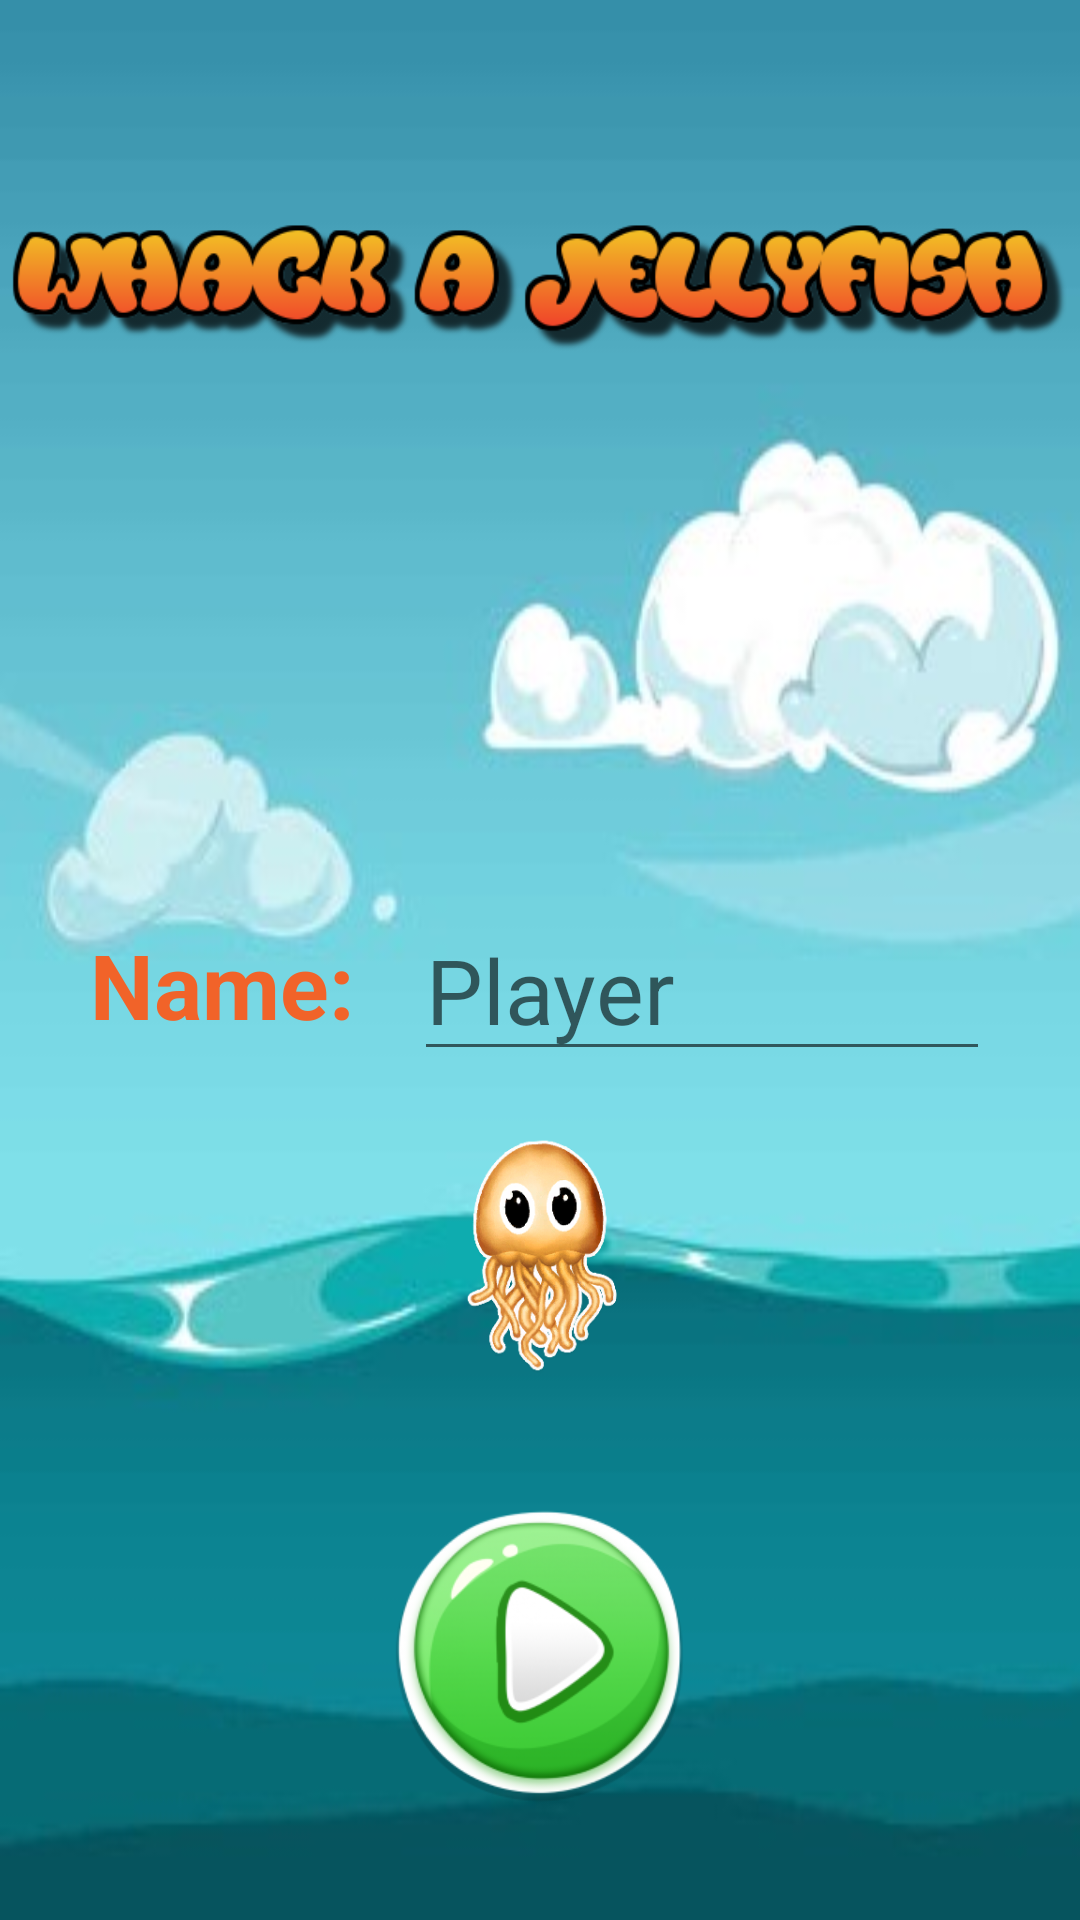

Point at icon controls on the screen. Image size 1080w x 1920h, points as (x=x, y=y).
gold jellyfish: (x=540, y=1255)
play: (x=540, y=1658)
